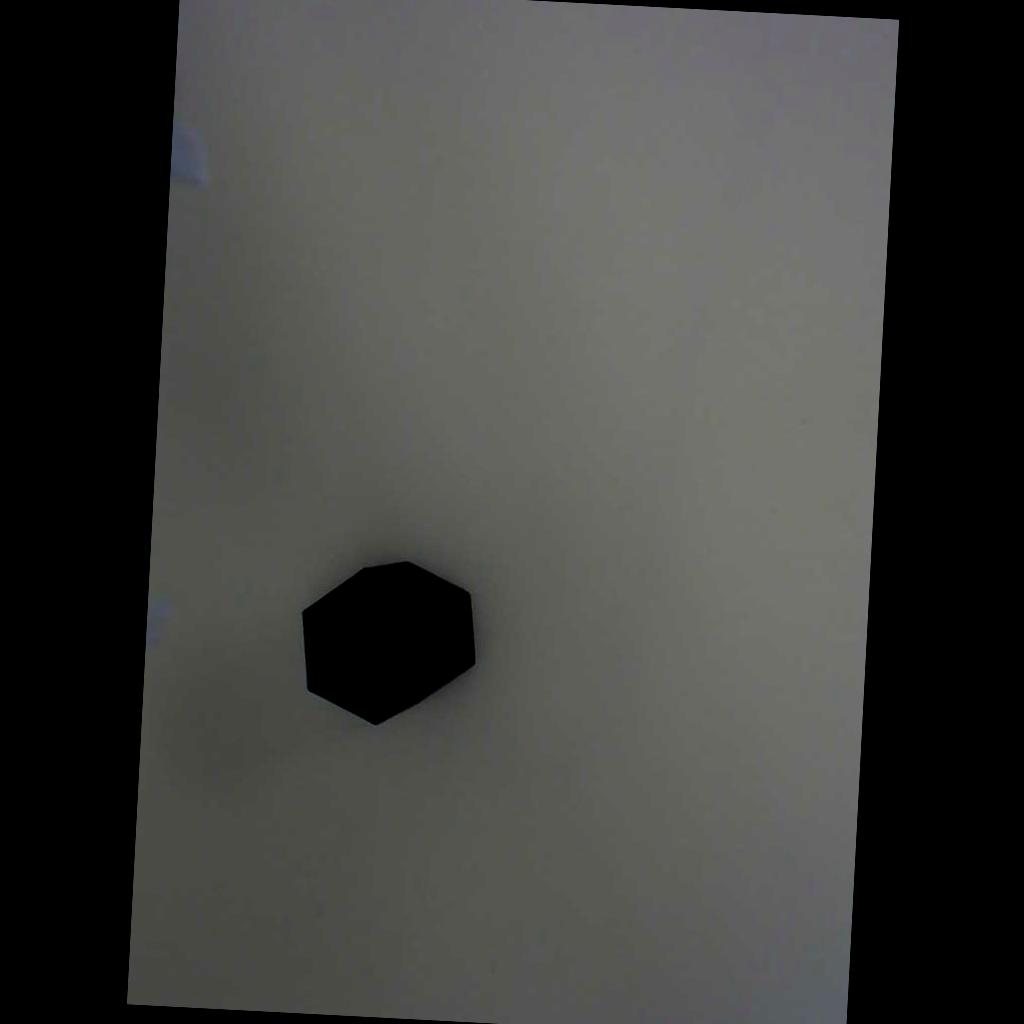hexagon: (242, 505, 520, 765)
